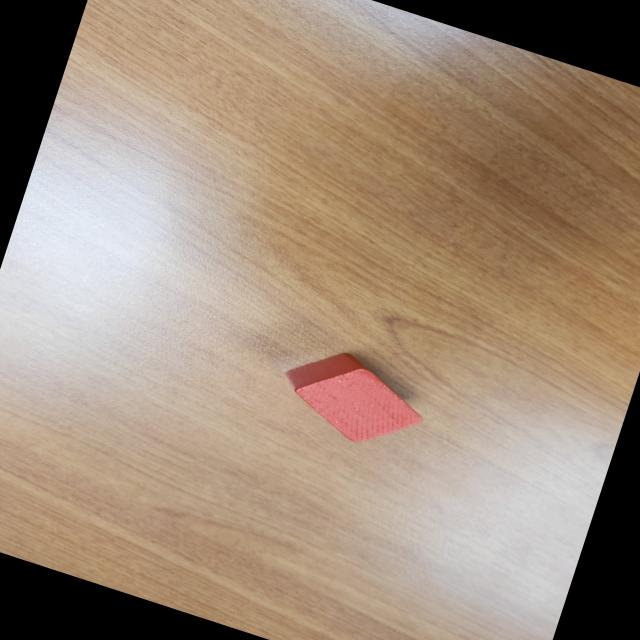red: (271, 338, 438, 462)
